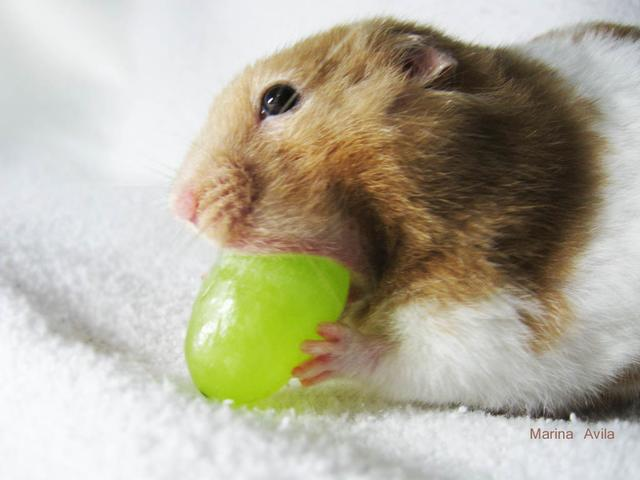mouse: (159, 13, 625, 450)
